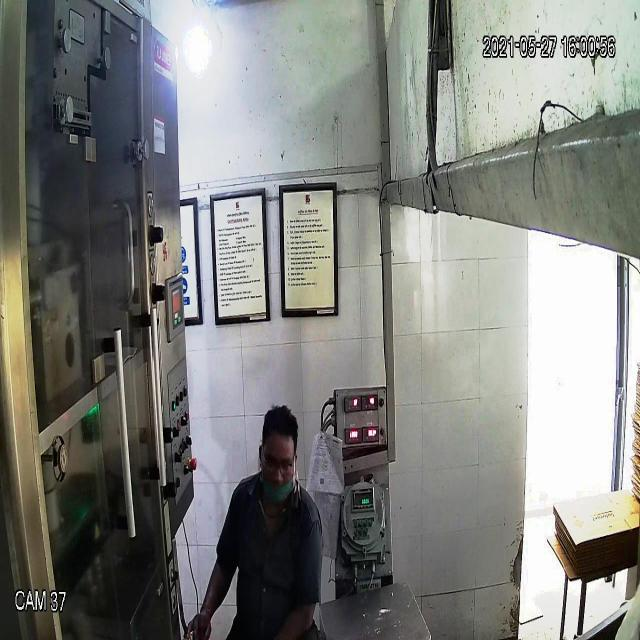glasses: (258, 444, 300, 482)
